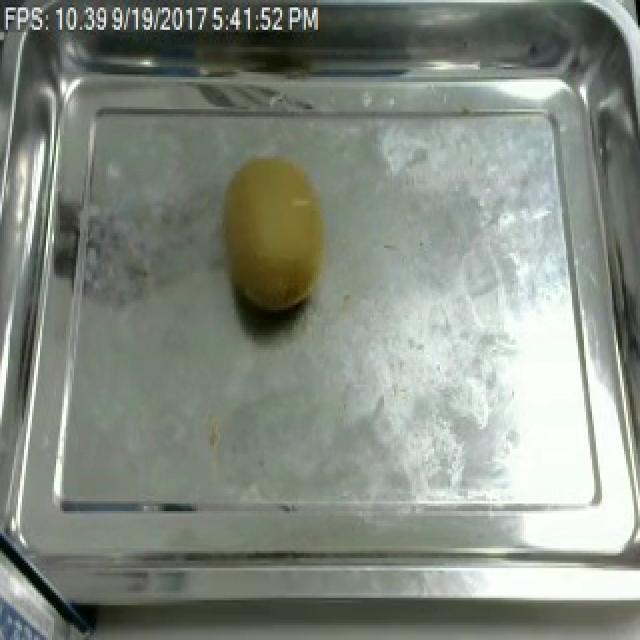Fruit: (214, 149, 336, 322)
